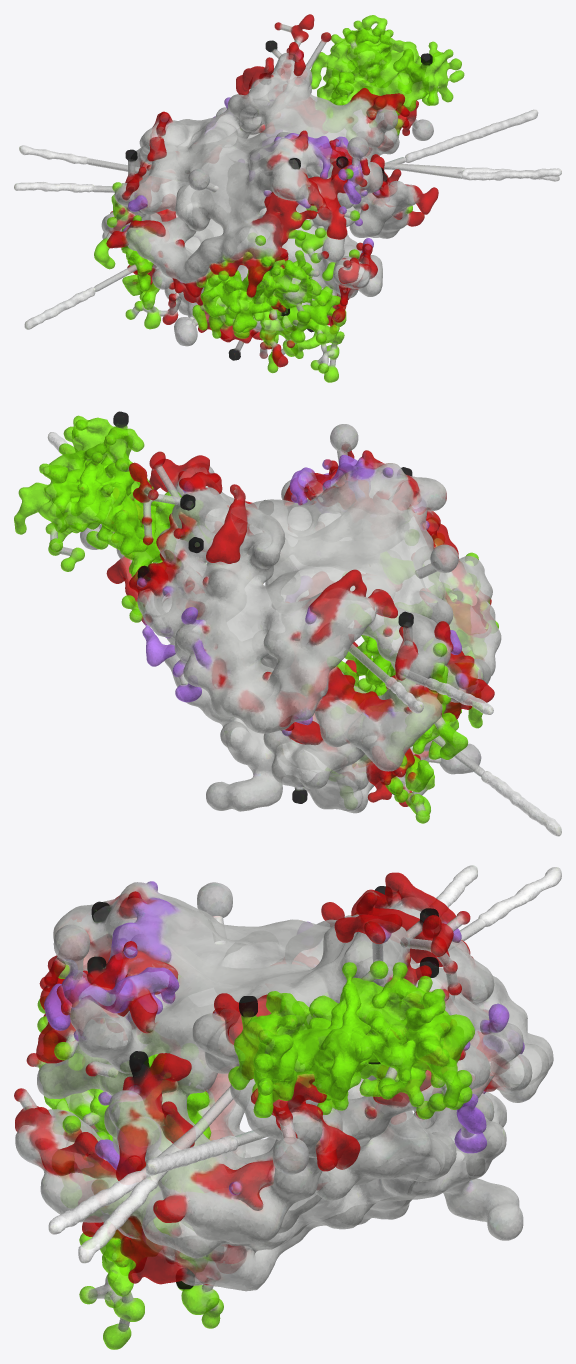
Rendered from cassiopeia-a-supernova.glb.
3 renders of one model, top to bottom at view 1: azimuth 30°, elevation 25°; view 2: azimuth 150°, elevation 25°; view 3: azimuth 270°, elevation 25°, orthographic. The views are drawn at different scales.
Visible parts, largest first — view 1: Cassiopeia A Supernova; view 2: Cassiopeia A Supernova; view 3: Cassiopeia A Supernova.
Boxes of the visible parts, x1,y1,x2,y2 form: Cassiopeia A Supernova: [14, 14, 561, 382]; Cassiopeia A Supernova: [14, 411, 561, 836]; Cassiopeia A Supernova: [14, 865, 561, 1349].
Bounding box in the file's own units: 18.91 × 11.4 × 11.37.
1 material, 1 textured.
